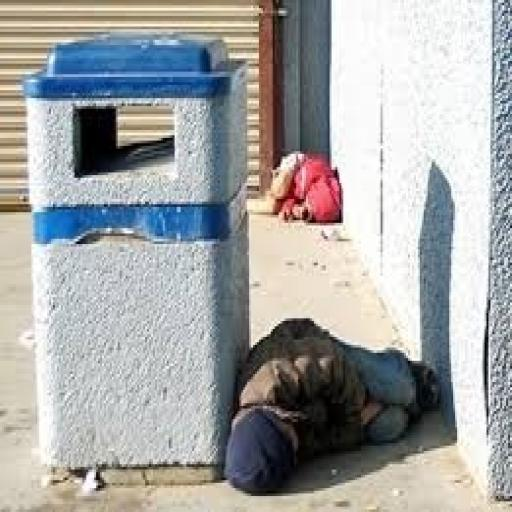sleeping: (222, 313, 441, 496)
